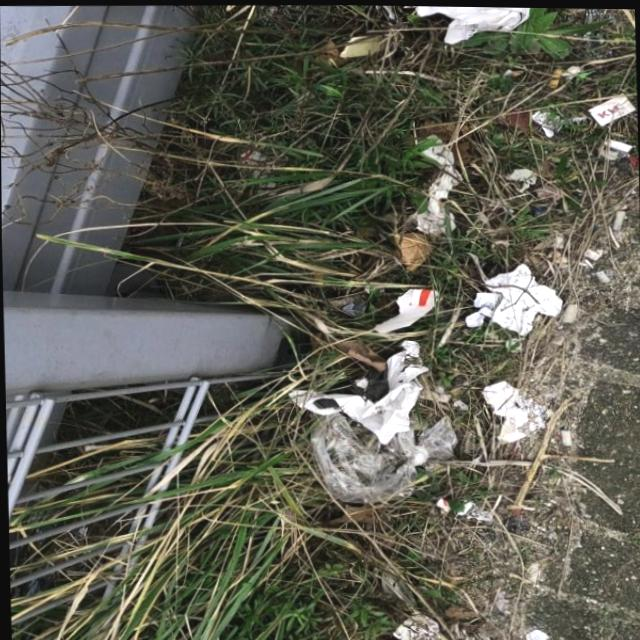Paper: (383, 605, 456, 640)
